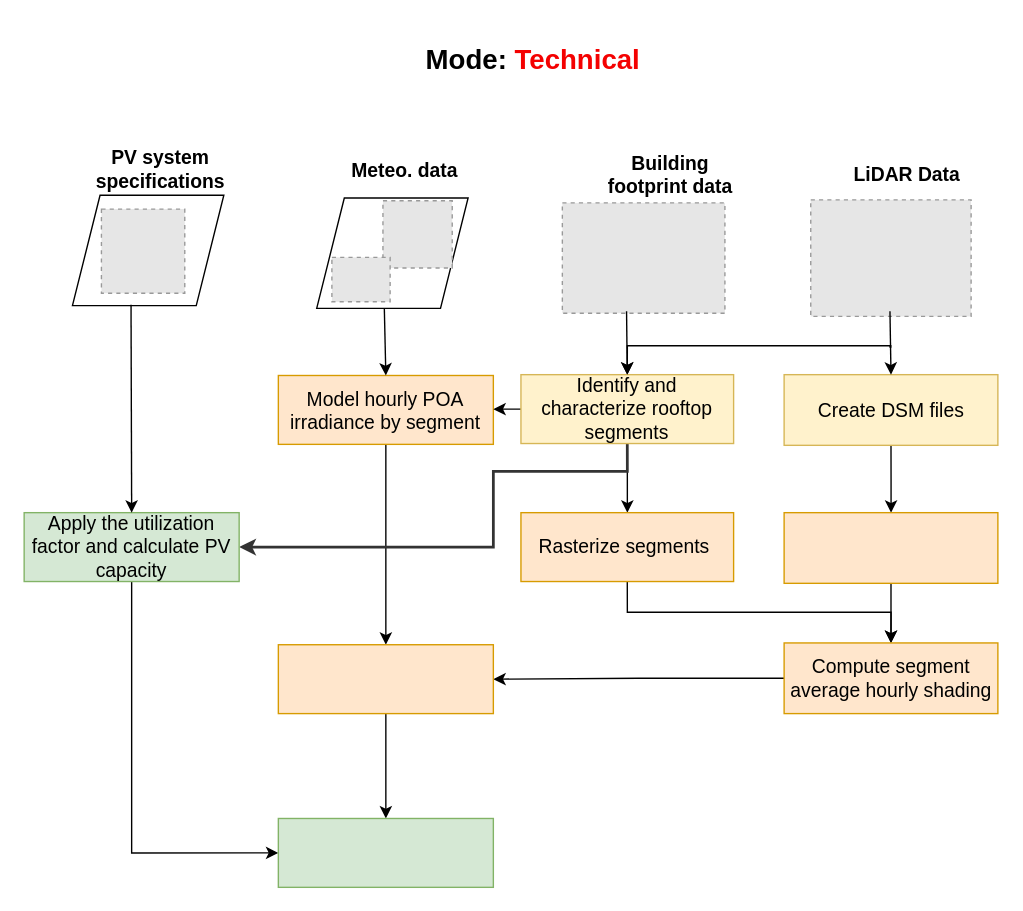
Image size: 1023x911. Some labels were removed from this diagram. Grey dashed boxes stand in for pictures. The shapes that lost their labels are listed below. From the top down, each one's centre as x and y in pixels, then its label:
At (890,547): "Calculate hourly shading by pixel".
At (385,678): "Compute hourly POA with shading by segment".
At (385,852): "Model PV electricity yield".
